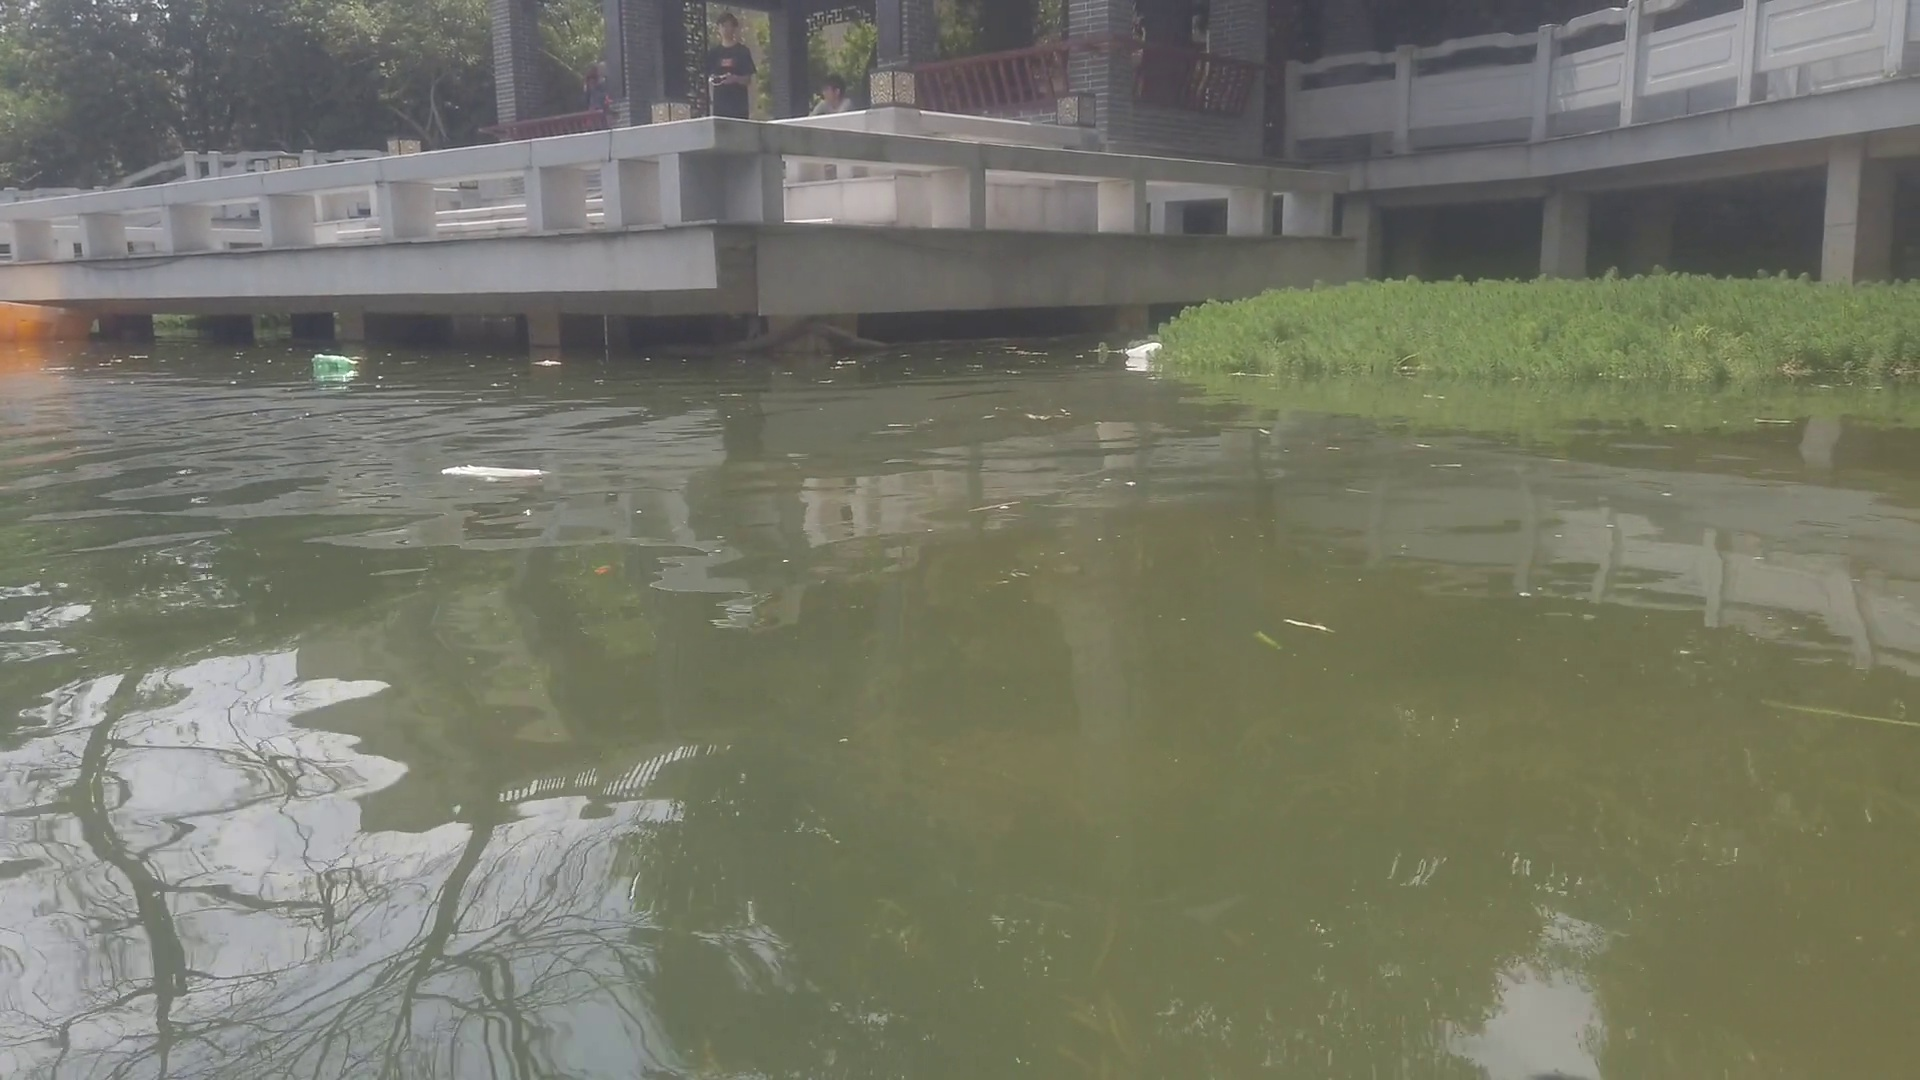bottle: (309, 351, 365, 371)
paper: (440, 458, 554, 483), (537, 357, 560, 367)
plastic: (1127, 338, 1164, 361)
